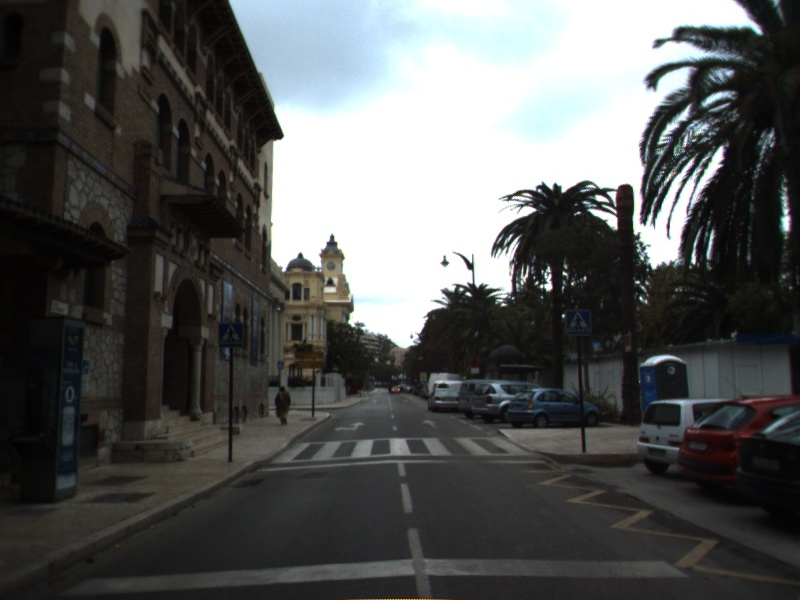STRAIGHT: (420, 417, 440, 430)
STRAIGHT_LEFT: (332, 420, 367, 434)
